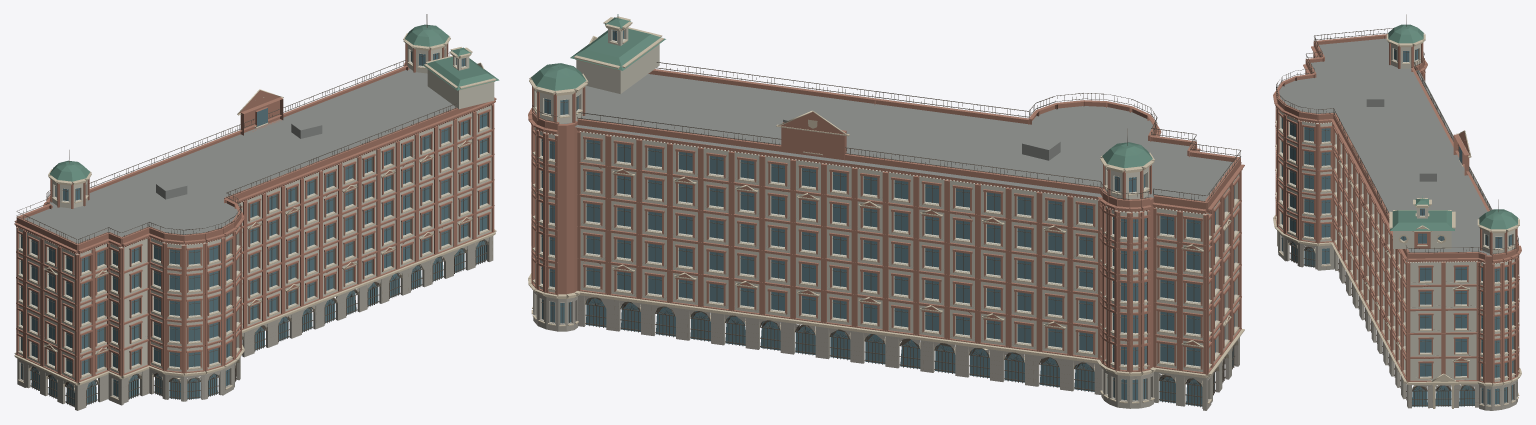
The model's file is bund19.glb.
3 views of the same model, side by side, from view 1: azimuth 30°, elevation 25°; view 2: azimuth 150°, elevation 25°; view 3: azimuth 270°, elevation 25° (orthographic). The views are drawn at different scales.
Size of the model in its own units: 90.52 by 38.1 by 42.4.
